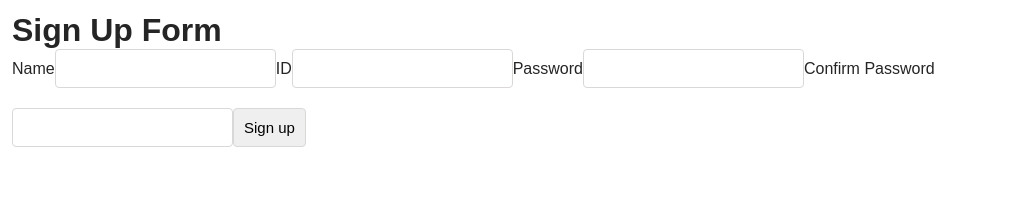
Test: Sign Up Form › will show error message
Type "test name" into the field with test id "name" at coordinates (165, 68), box [55,49,276,88]
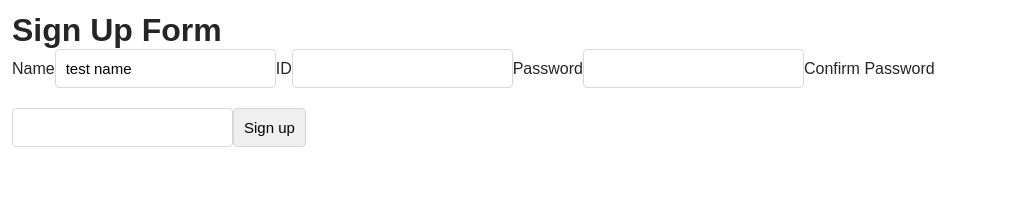
Type "test id" into the field with test id "id" at coordinates (402, 68), box [292,49,513,88]
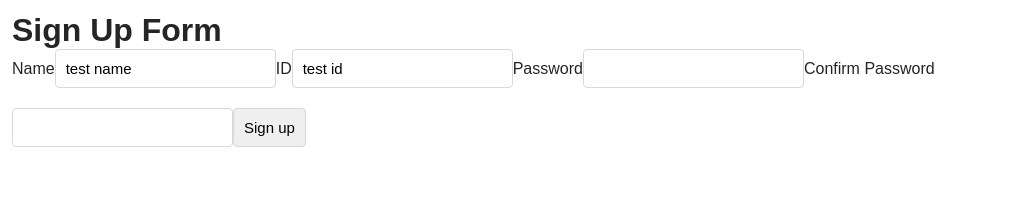
Type "abc" into the password field with test id "password" at coordinates (693, 68), box [583,49,804,88]
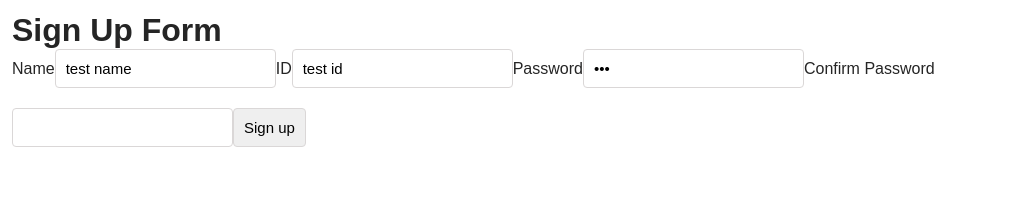
Type "def" into the password field with test id "confirm-password" at coordinates (122, 128), box [12,108,233,147]
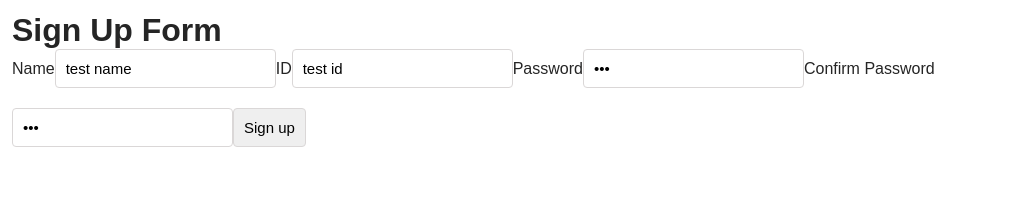
Click the button with test id "signup" at coordinates (269, 128), box [233,108,306,147]
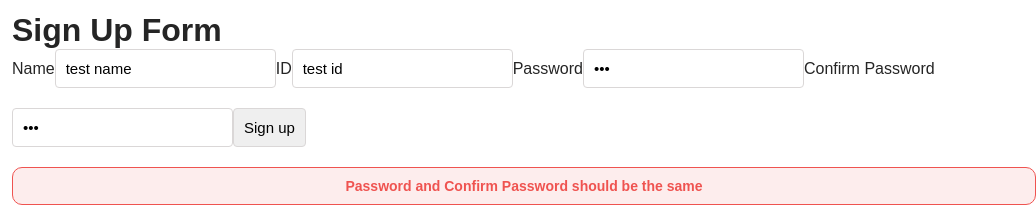
Expected: the heading "Password and Confirm Password should be the same" is shown, [12,167,1035,205]
